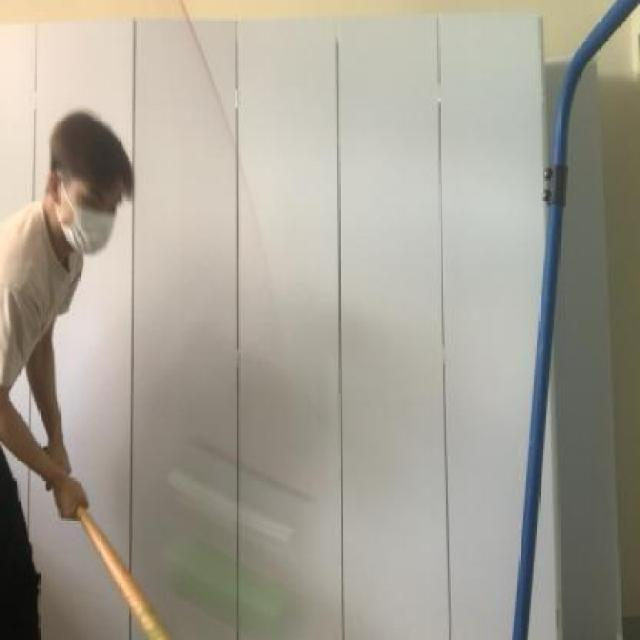baseball: (156, 518, 304, 640)
